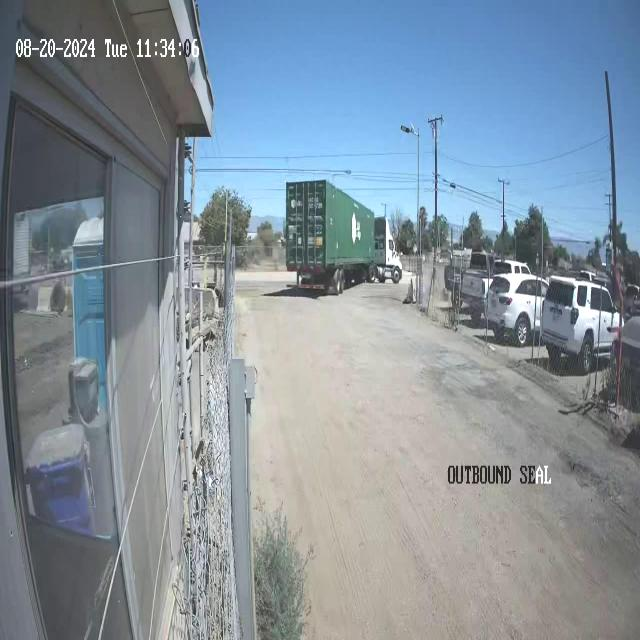CONTAINER: (284, 178, 376, 276)
